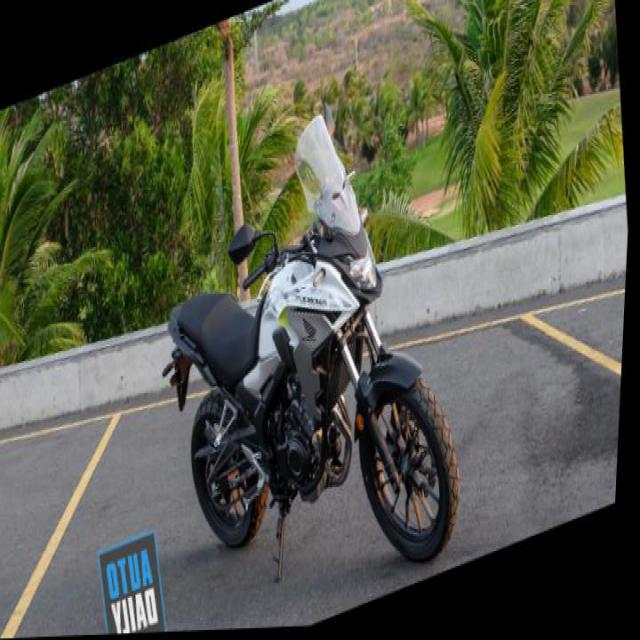CB500X: (138, 67, 488, 632)
